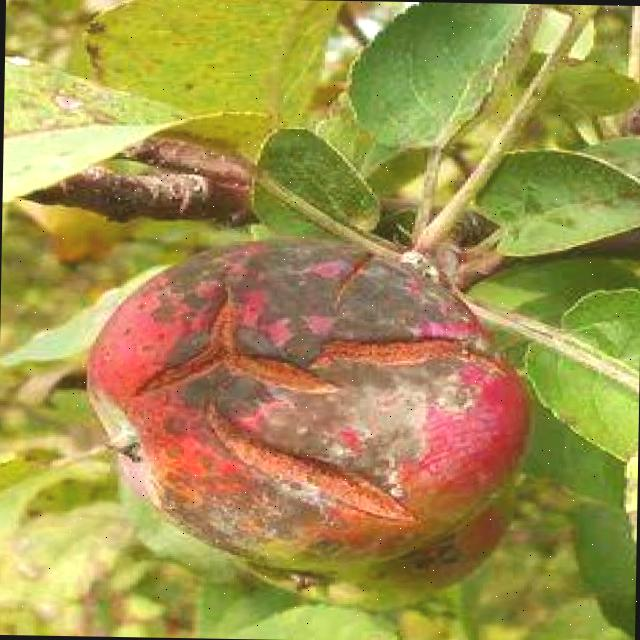rotten apple: (51, 203, 557, 601)
